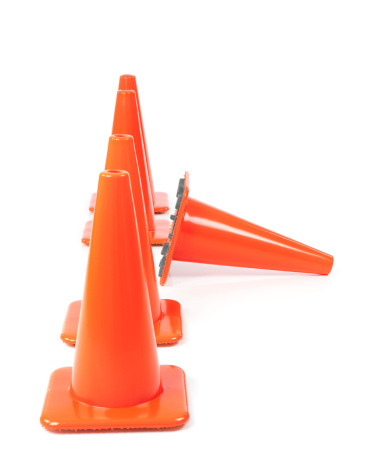trafficcone: (41, 170, 190, 432), (60, 133, 183, 346), (158, 170, 334, 288), (81, 90, 172, 245)
